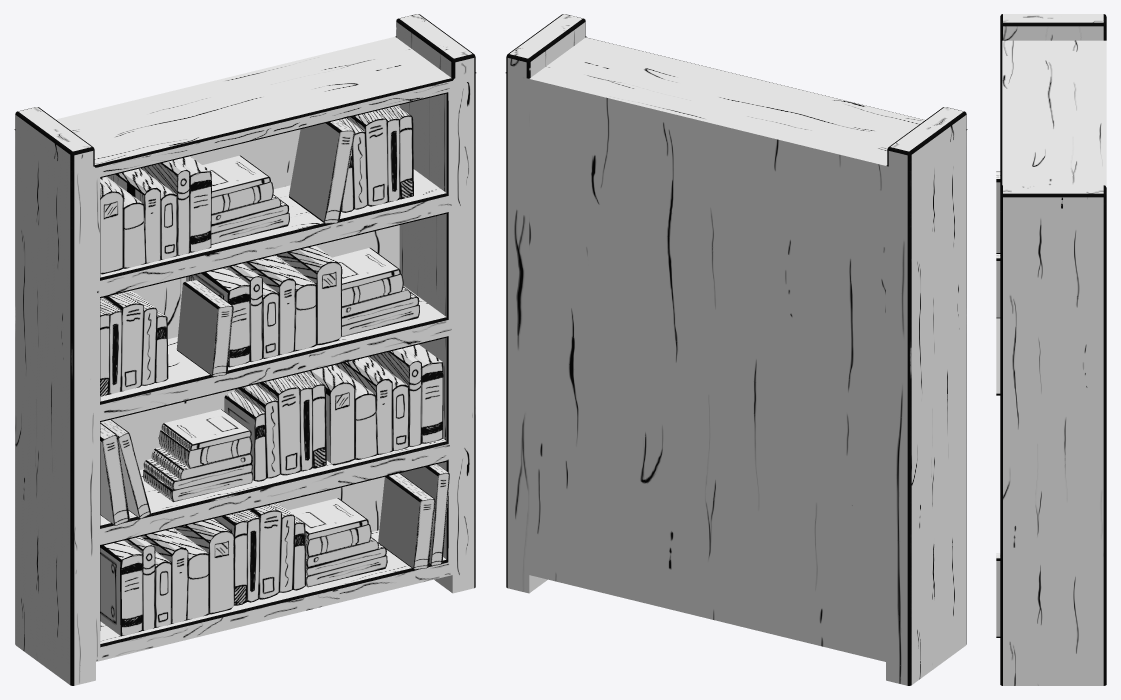
Rendered from Bookseller.fbx.
The picture shows the model from 3 angles, left to right: view 1: azimuth 30°, elevation 25°; view 2: azimuth 150°, elevation 25°; view 3: azimuth 270°, elevation 25°; orthographic projection. The views are drawn at different scales.
Parts seen in each view (by area): view 1: librero, libros, Libros2, Libros3, Cube.006, Cube.005, Cube.010, Cube.007, Cube.009, Cube.008; view 2: librero; view 3: librero, Cube.009, Cube.006, Cube.008, Cube.005.
Boxes of the visible parts, x1=… form: librero: x1=14, y1=14, x2=476, y2=685; libros: x1=100, y1=156, x2=443, y2=636; Libros2: x1=100, y1=105, x2=413, y2=605; Libros3: x1=143, y1=155, x2=419, y2=587; Cube.006: x1=289, y1=120, x2=354, y2=223; Cube.005: x1=176, y1=280, x2=233, y2=376; Cube.010: x1=378, y1=473, x2=435, y2=569; Cube.007: x1=100, y1=422, x2=129, y2=525; Cube.009: x1=401, y1=464, x2=449, y2=565; Cube.008: x1=100, y1=419, x2=150, y2=518; librero: x1=505, y1=14, x2=967, y2=685; librero: x1=1000, y1=14, x2=1106, y2=685; Cube.009: x1=996, y1=553, x2=1000, y2=637; Cube.006: x1=996, y1=171, x2=1000, y2=253; Cube.008: x1=996, y1=318, x2=1000, y2=395; Cube.005: x1=996, y1=254, x2=1000, y2=318.
Size of the model in its own units: 5.57 by 7 by 1.42.
